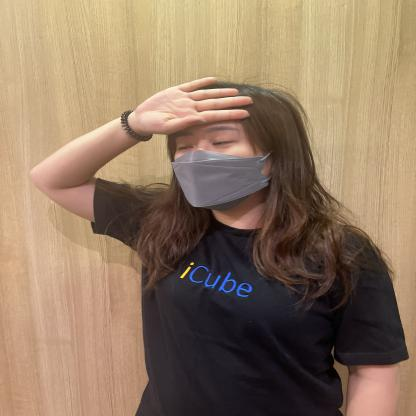Sick: (101, 56, 255, 141)
